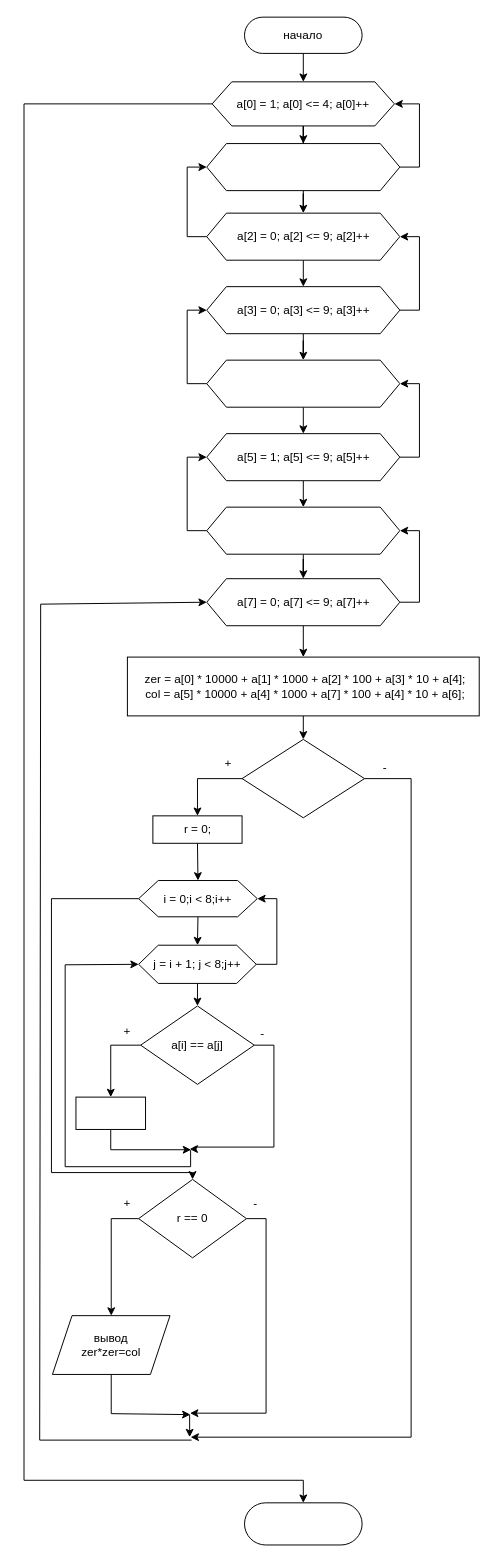
The diagram is 497 pixels wide and 1562 high, and some of its shapes have lost their labels. Each missing label, with the box of its shape:
(a[1] = 0; a[1] <= 9; a[1]++): (206, 143, 400, 191)
a[4] = 0; a[4] <= 9; a[4]++: (206, 359, 400, 407)
a[6] = 0; a[6] <= 9; a[6]++: (206, 506, 400, 554)
r++: (75, 1096, 146, 1129)
zer * 2 == col: (241, 738, 365, 818)
конец: (244, 1502, 362, 1545)
